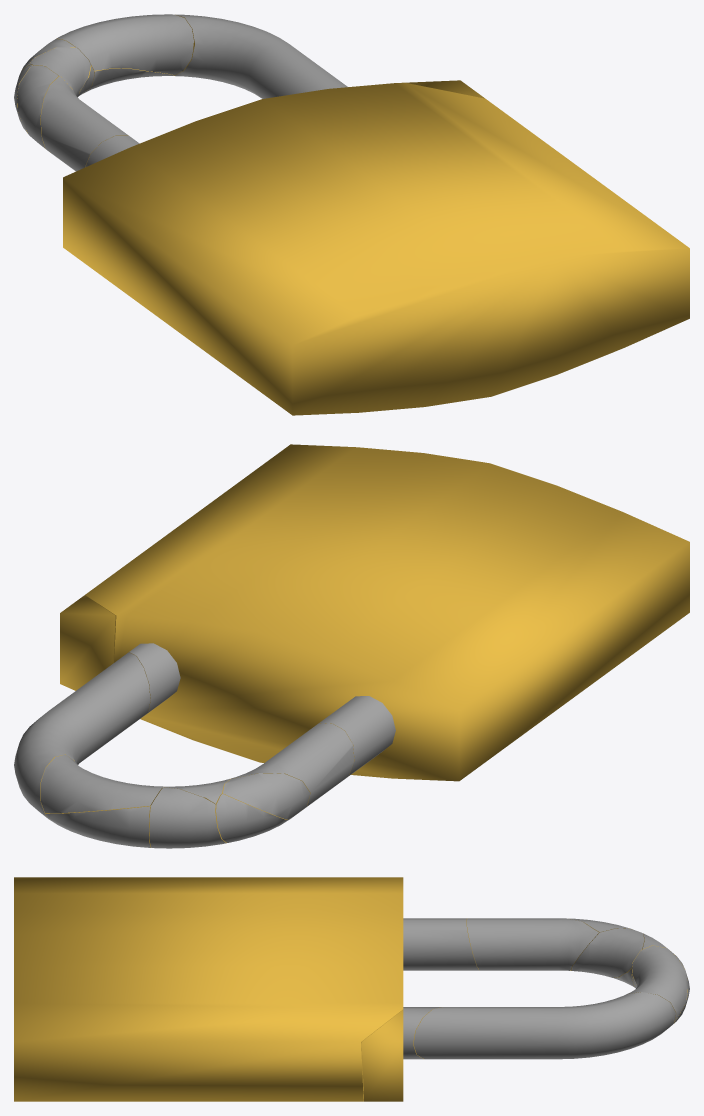
Rendered from PADLOCK cell frac.fbx.
3 views of the same model, one above another, from view 1: azimuth 30°, elevation 25°; view 2: azimuth 150°, elevation 25°; view 3: azimuth 270°, elevation 25° (orthographic). The views are drawn at different scales.
Parts seen in each view (by area): view 1: Cube_cell.001, Cube_cell.011, Cube_cell.004, Cube_cell.007, Cube_cell.003, Cube_cell.005, Cube_cell.002, Cube_cell.010; view 2: Cube_cell.001, Cube_cell.011, Cube_cell.004, Cube_cell.007, Cube_cell.008, Cube_cell.006, Cube_cell.010, Cube_cell.002, Cube_cell.003, Cube_cell, Cube_cell.009, Cube_cell.005; view 3: Cube_cell.001, Cube_cell.011, Cube_cell.007, Cube_cell.010, Cube_cell.008, Cube_cell.004, Cube_cell.005, Cube_cell.009, Cube_cell.006.
Part boxes in pixels (x1,y1,x2,y2): Cube_cell.001: (63, 82, 689, 415); Cube_cell.011: (174, 14, 347, 98); Cube_cell.004: (56, 14, 193, 75); Cube_cell.007: (40, 76, 128, 171); Cube_cell.003: (17, 65, 58, 152); Cube_cell.005: (27, 47, 90, 96); Cube_cell.002: (83, 68, 174, 93); Cube_cell.010: (85, 135, 139, 167); Cube_cell.001: (85, 444, 689, 781); Cube_cell.011: (14, 652, 150, 820); Cube_cell.004: (40, 754, 163, 813); Cube_cell.007: (231, 723, 354, 814); Cube_cell.008: (60, 595, 115, 690); Cube_cell.006: (149, 787, 226, 848); Cube_cell.010: (318, 696, 395, 781); Cube_cell.002: (45, 805, 151, 847); Cube_cell.003: (223, 773, 310, 819); Cube_cell: (216, 793, 288, 842); Cube_cell.009: (129, 643, 180, 715); Cube_cell.005: (164, 779, 230, 804); Cube_cell.001: (14, 877, 403, 1101); Cube_cell.011: (413, 992, 676, 1059); Cube_cell.007: (466, 918, 598, 970); Cube_cell.010: (403, 918, 479, 970); Cube_cell.008: (361, 1010, 403, 1101); Cube_cell.004: (627, 945, 687, 1020); Cube_cell.005: (571, 928, 644, 977); Cube_cell.009: (403, 1007, 441, 1059); Cube_cell.006: (614, 933, 675, 987).
Bounding box in the file's own units: 200 × 62.37 × 347.
